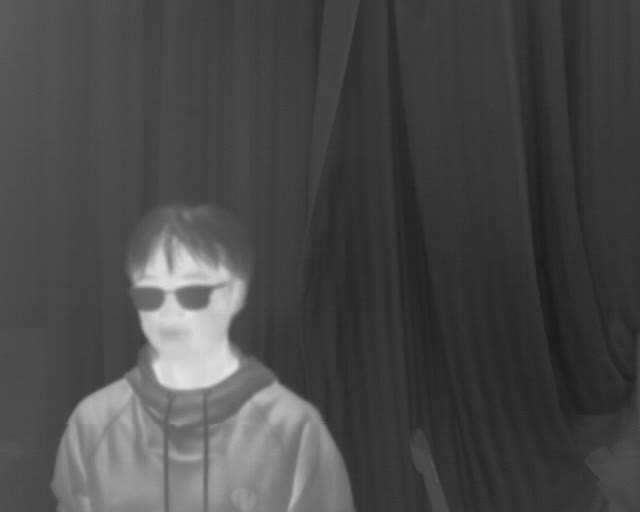face: (71, 11, 216, 207)
